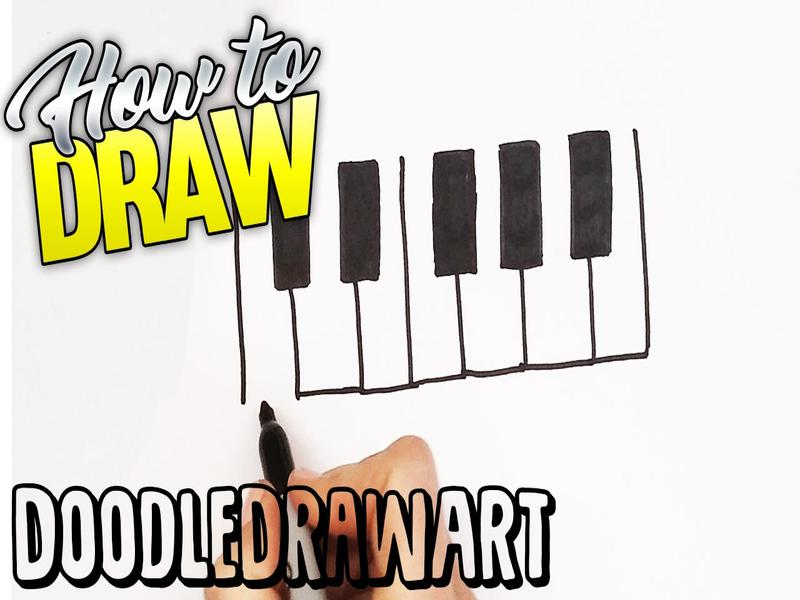piano: (221, 129, 649, 400)
